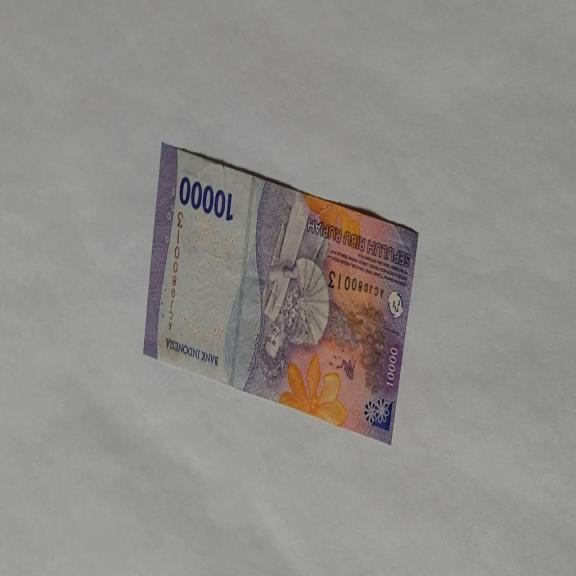Kertas: (142, 140, 420, 447), (178, 174, 234, 223)
